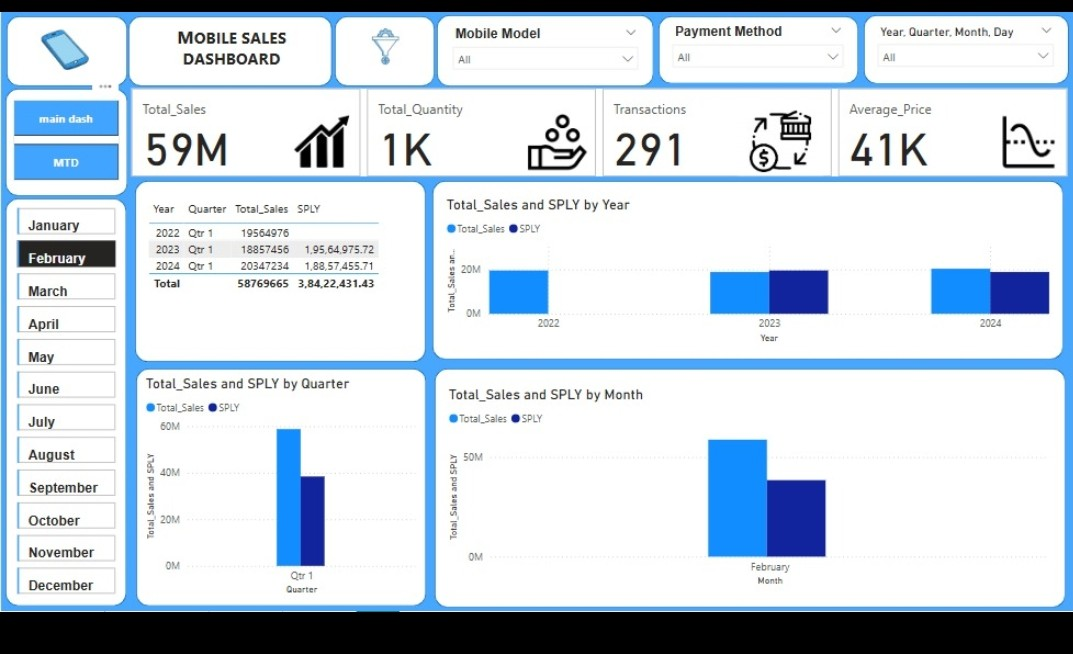

The page's visual inventory and layout, read from the dashboard file:
{"tool":"powerbi","page":{"name":"SPLY","canvas":[1280,720],"ordinal":2},"visuals":[{"type":"shape","box":[160.2,207.2,346.8,216],"z":0},{"type":"shape","box":[6.2,10.8,143.9,83.6],"z":1000},{"type":"image","box":[12.2,20,128.7,64.8],"z":2000},{"type":"shape","box":[151.7,10.8,243,83.6],"z":3000},{"type":"textbox","box":[160.9,15.7,227.8,69.1],"z":4000},{"type":"shape","box":[397.8,10.8,119.2,83.6],"z":5000},{"type":"image","box":[408.6,15.5,99.1,61.9],"z":6000},{"type":"shape","box":[520,9.3,258.5,85.1],"z":7000},{"type":"shape","box":[784.7,10.8,238.4,80.5],"z":8000},{"type":"shape","box":[1029.3,9.3,244.5,82],"z":9000},{"type":"slicer","fields":{"Values":["sales.Mobile Model"]},"box":[529.3,17,241.5,60.4],"z":10000},{"type":"slicer","fields":{"Values":["sales.Payment Method"]},"box":[790.9,13.9,224.4,63.5],"z":11000},{"type":"shape","box":[5.7,96.8,145.5,128],"z":12000},{"type":"shape","box":[5.8,228.2,144.2,486.2],"z":13000},{"type":"cardVisual","fields":{"Data":["sales.Total_Sales","sales.Total_Quantity","sales.Transactions","sales.Average_Price"]},"box":[150,91.4,1129.9,115.9],"z":14000},{"type":"shape","box":[514.3,207.2,752.3,213.1],"z":15000},{"type":"shape","box":[517.2,430.5,752.3,285.1],"z":16000},{"type":"tableEx","fields":{"Values":["custom_calendar.dates.Variation.Date Hierarchy.Year","custom_calendar.dates.Variation.Date Hierarchy.Quarter","sales.Total_Sales","sales.SPLY"]},"box":[170.4,224.8,318.9,179.3],"z":17000},{"type":"slicer","fields":{"Values":["custom_calendar.dates.Variation.Date Hierarchy.Year","custom_calendar.dates.Variation.Date Hierarchy.Quarter","custom_calendar.dates.Variation.Date Hierarchy.Month","custom_calendar.dates.Variation.Date Hierarchy.Day"]},"box":[1035.4,16.2,230.4,68.5],"z":18000},{"type":"clusteredColumnChart","fields":{"Category":["custom_calendar.dates.Variation.Date Hierarchy.Year"],"Y":["sales.Total_Sales","sales.SPLY"]},"box":[526,224.8,728.8,179.3],"z":19000},{"type":"shape","box":[160.9,430.5,345.9,283.5],"z":20000},{"type":"clusteredColumnChart","fields":{"Category":["custom_calendar.dates.Variation.Date Hierarchy.Month"],"Y":["sales.Total_Sales","sales.SPLY"]},"box":[529,451.1,725.9,242.4],"z":21000},{"type":"clusteredColumnChart","fields":{"Category":["custom_calendar.dates.Variation.Date Hierarchy.Quarter"],"Y":["sales.Total_Sales","sales.SPLY"]},"box":[167.3,438.7,331.6,266.5],"z":22000},{"type":"advancedSlicerVisual","fields":{"Values":["custom_calendar.dates.Variation.Date Hierarchy.Month"]},"box":[14.9,234.3,127.6,473.5],"z":23000},{"type":"pageNavigator","box":[14.7,110.2,126.4,97],"z":24000}]}

Visuals, with their boxes on the page's 1280x720 design canvas (x1, y1, x2, y2). These are canvas units, not pixel positions in the 1073x654 screenshot, which may show the page scaled, cropped or inside an application window:
shape: bbox(160, 207, 507, 423)
shape: bbox(6, 11, 150, 94)
image: bbox(12, 20, 141, 85)
shape: bbox(152, 11, 395, 94)
textbox: bbox(161, 16, 389, 85)
shape: bbox(398, 11, 517, 94)
image: bbox(409, 16, 508, 77)
shape: bbox(520, 9, 778, 94)
shape: bbox(785, 11, 1023, 91)
shape: bbox(1029, 9, 1274, 91)
slicer - sales.Mobile Model: bbox(529, 17, 771, 77)
slicer - sales.Payment Method: bbox(791, 14, 1015, 77)
shape: bbox(6, 97, 151, 225)
shape: bbox(6, 228, 150, 714)
cardVisual - sales.Total_Sales x sales.Total_Quantity: bbox(150, 91, 1280, 207)
shape: bbox(514, 207, 1267, 420)
shape: bbox(517, 430, 1270, 716)
tableEx - custom_calendar.dates.Variation.Date Hierarchy.Year x custom_calendar.dates.Variation.Date Hierarchy.Quarter: bbox(170, 225, 489, 404)
slicer - custom_calendar.dates.Variation.Date Hierarchy.Year x custom_calendar.dates.Variation.Date Hierarchy.Quarter: bbox(1035, 16, 1266, 85)
clusteredColumnChart - custom_calendar.dates.Variation.Date Hierarchy.Year x sales.Total_Sales: bbox(526, 225, 1255, 404)
shape: bbox(161, 430, 507, 714)
clusteredColumnChart - custom_calendar.dates.Variation.Date Hierarchy.Month x sales.Total_Sales: bbox(529, 451, 1255, 694)
clusteredColumnChart - custom_calendar.dates.Variation.Date Hierarchy.Quarter x sales.Total_Sales: bbox(167, 439, 499, 705)
advancedSlicerVisual - custom_calendar.dates.Variation.Date Hierarchy.Month: bbox(15, 234, 142, 708)
pageNavigator: bbox(15, 110, 141, 207)
